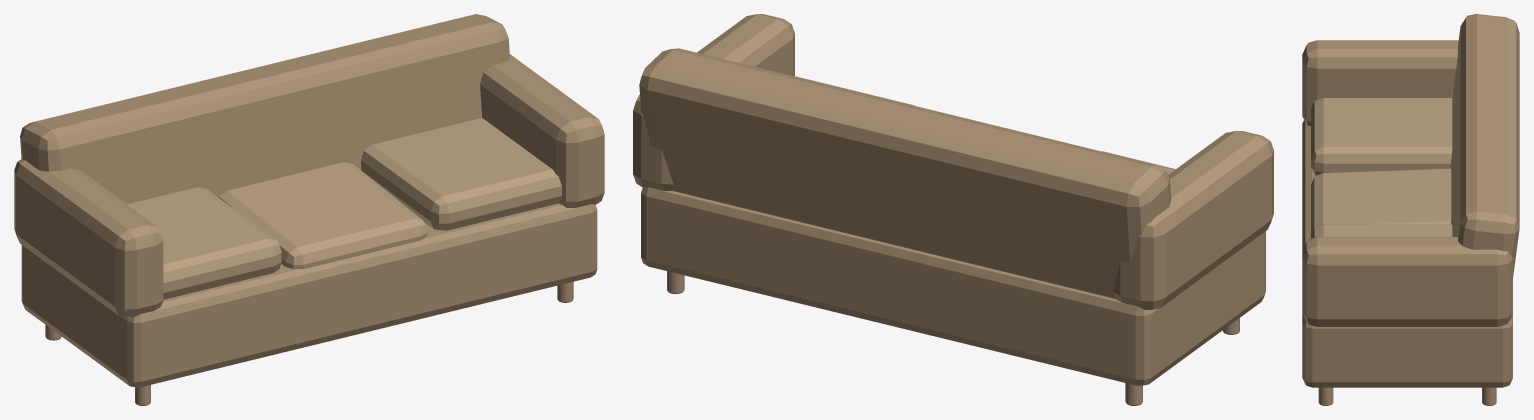
Rendered from couch.fbx.
3 renders of one model, left to right at view 1: azimuth 30°, elevation 25°; view 2: azimuth 150°, elevation 25°; view 3: azimuth 270°, elevation 25°, orthographic. The views are drawn at different scales.
Visible parts, largest first — view 1: couch; view 2: couch; view 3: couch.
Part boxes in pixels (x1,y1,x2,y2): couch: (14, 14, 604, 405); couch: (633, 14, 1273, 405); couch: (1302, 14, 1519, 405).
Bounding box in the file's own units: 2.08 × 0.8754 × 0.8769.
